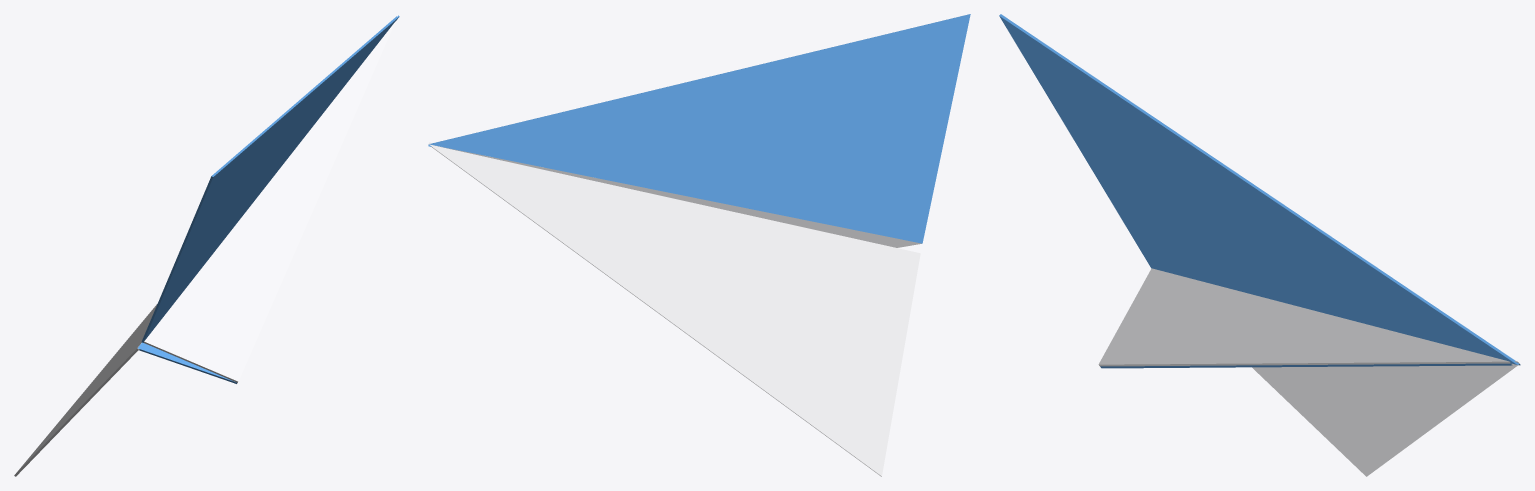
3 views of the same model, side by side, from view 1: azimuth 30°, elevation 25°; view 2: azimuth 150°, elevation 25°; view 3: azimuth 270°, elevation 25° (orthographic). The views are drawn at different scales.
Visible parts, largest first — view 1: keelR, wingR, wingL, keelL; view 2: wingR, wingL, keelR; view 3: wingR, keelR, wingL, keelL.
Part boxes in pixels (x1,y1,x2,y2): keelR: [143, 15, 398, 382]; wingR: [141, 15, 399, 342]; wingL: [14, 304, 157, 476]; keelL: [138, 342, 237, 383]; wingR: [429, 14, 970, 243]; wingL: [429, 144, 920, 476]; keelR: [429, 142, 921, 247]; wingR: [999, 14, 1518, 364]; keelR: [1098, 268, 1518, 366]; wingL: [1252, 363, 1519, 476]; keelL: [1100, 363, 1520, 368].
Size of the model in its own units: 2.81 by 2.39 by 2.3.
